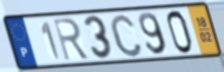0: (165, 9, 195, 55)
1: (41, 21, 61, 60)
3: (83, 14, 115, 60)
9: (138, 11, 169, 56)
C: (108, 12, 145, 59)
R: (52, 17, 92, 63)
